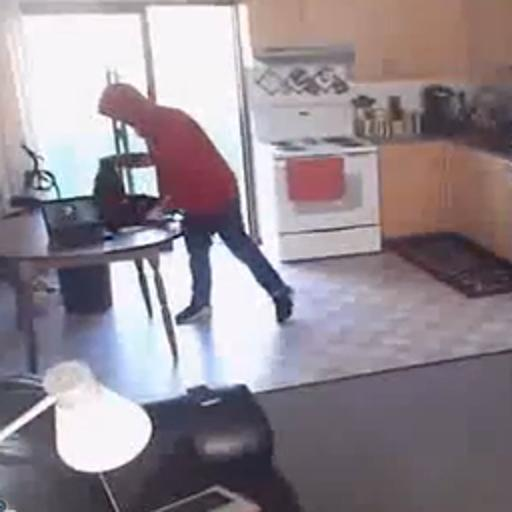Humans: (91, 73, 324, 338)
